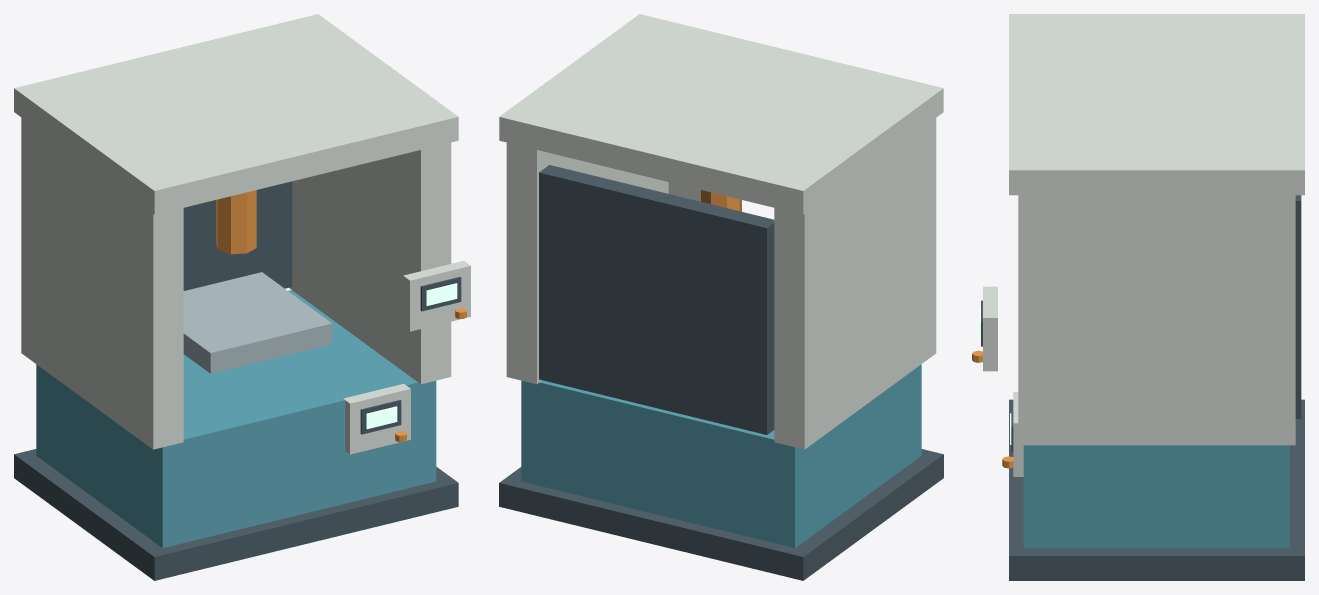
File: cnc-milling-enclosure.glb
The picture shows the model from 3 angles, left to right: view 1: azimuth 30°, elevation 25°; view 2: azimuth 150°, elevation 25°; view 3: azimuth 270°, elevation 25°; orthographic projection. The views are drawn at different scales.
Visible parts, largest first — view 1: cream, blue, dark, steel, orange, light; view 2: cream, dark, blue; view 3: cream, blue, dark.
Part boxes in pixels (box(x1,y1,x2,y2)): cream: box(14, 14, 470, 454); blue: box(36, 290, 436, 547); dark: box(14, 181, 461, 580); steel: box(183, 272, 332, 373); orange: box(216, 190, 466, 442); light: box(366, 283, 457, 429); cream: box(499, 14, 943, 449); dark: box(499, 165, 943, 580); blue: box(521, 364, 921, 547); cream: box(983, 14, 1304, 476); blue: box(1023, 445, 1289, 547); dark: box(981, 195, 1304, 580).
Bounding box in the file's own units: 2 × 2.45 × 1.8.
